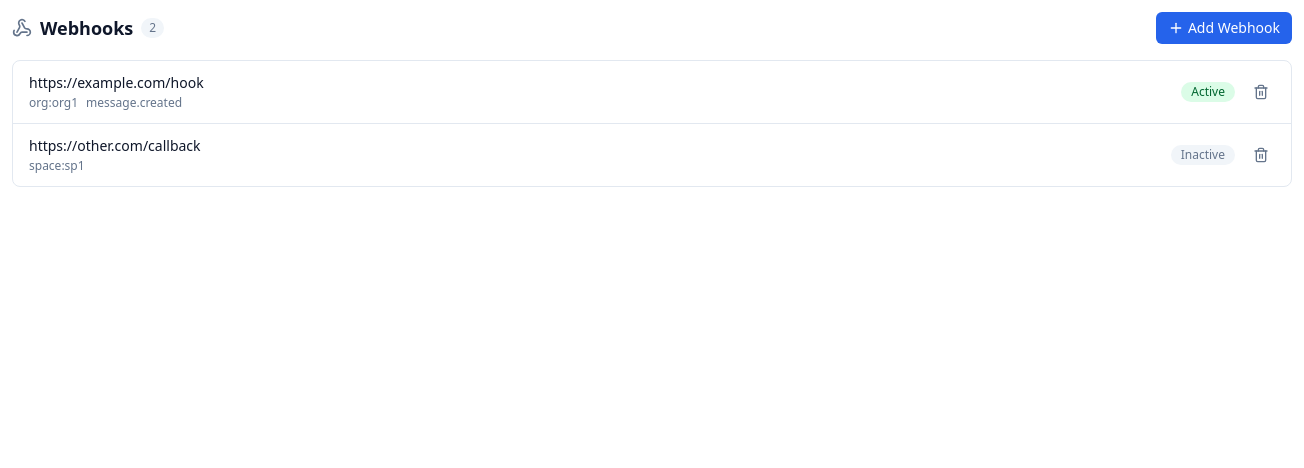
it: WebhookManager › shows error for invalid URL
The width and height of the screenshot is (1304, 468).
Click the button with test id "webhook-create-toggle": x=1224, y=28 [1156,12,1292,44]
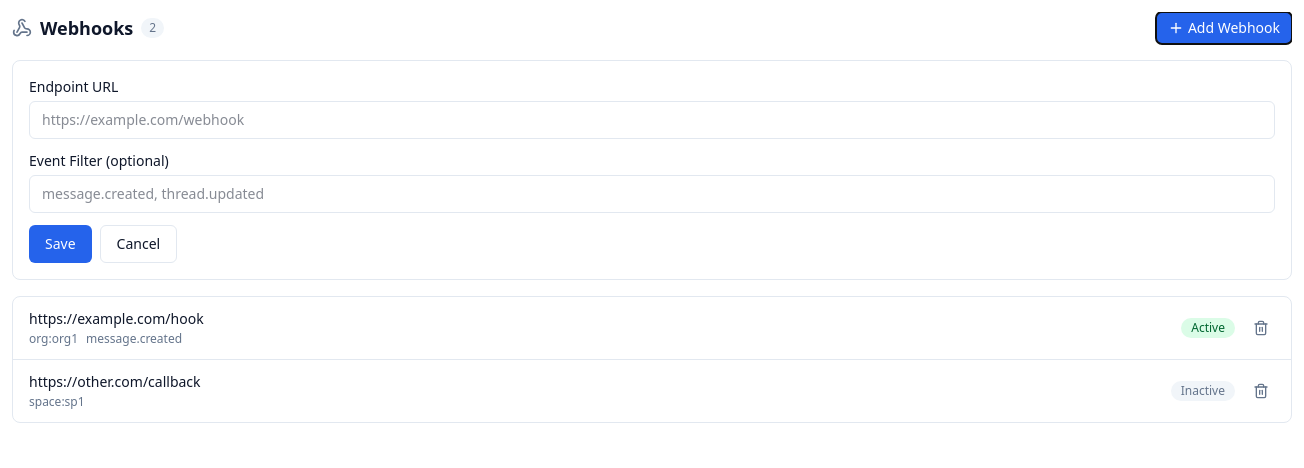
In the field with test id "webhook-url-input": x=652, y=120 [29,101,1275,139], type "not-a-url"
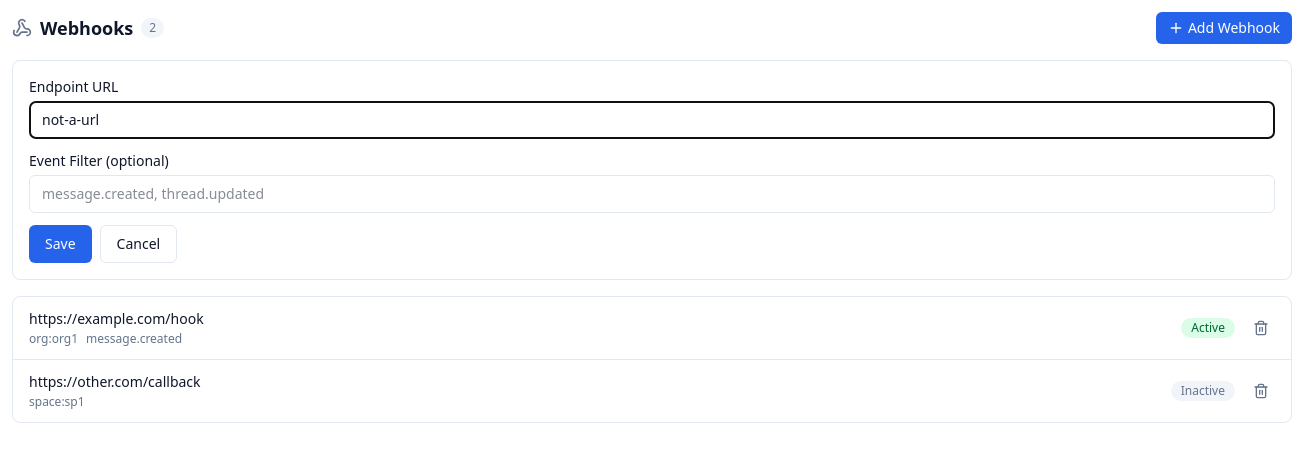
Click the button with test id "webhook-save-btn": x=60, y=244 [29,225,92,263]
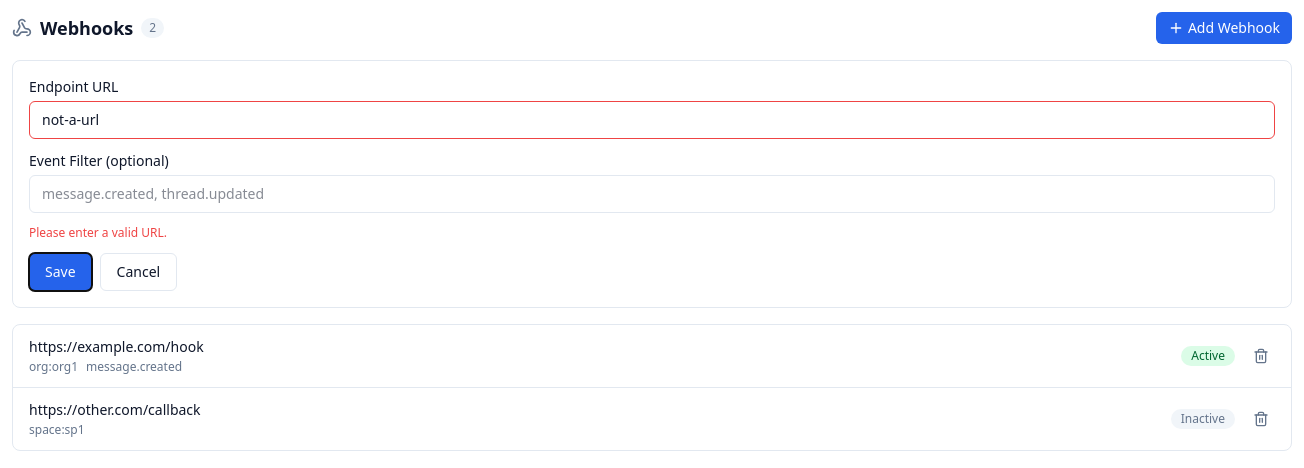
Result: the text with test id "webhook-error" reads "Please enter a valid URL." at [29,224,167,241]
